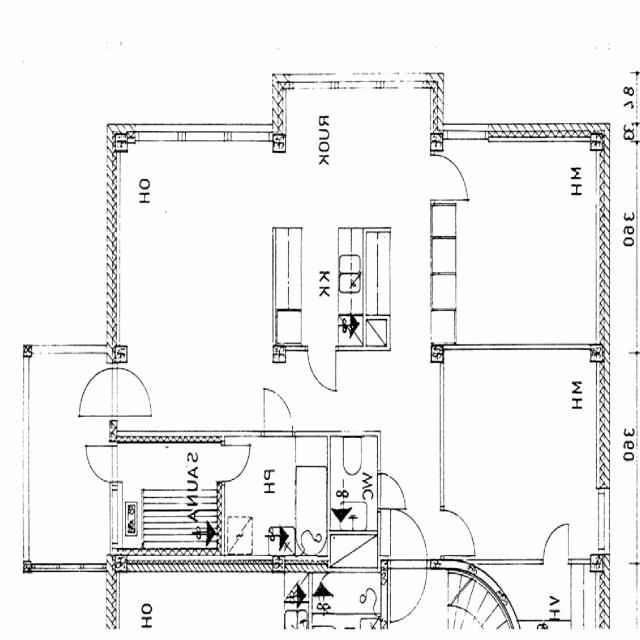door: (391, 506, 427, 568), (391, 559, 427, 620), (75, 369, 118, 416), (109, 369, 151, 416), (440, 510, 476, 556), (431, 154, 467, 200), (264, 390, 293, 436), (308, 345, 336, 390), (84, 445, 118, 482), (218, 444, 250, 481), (543, 523, 569, 564), (378, 473, 406, 509)
